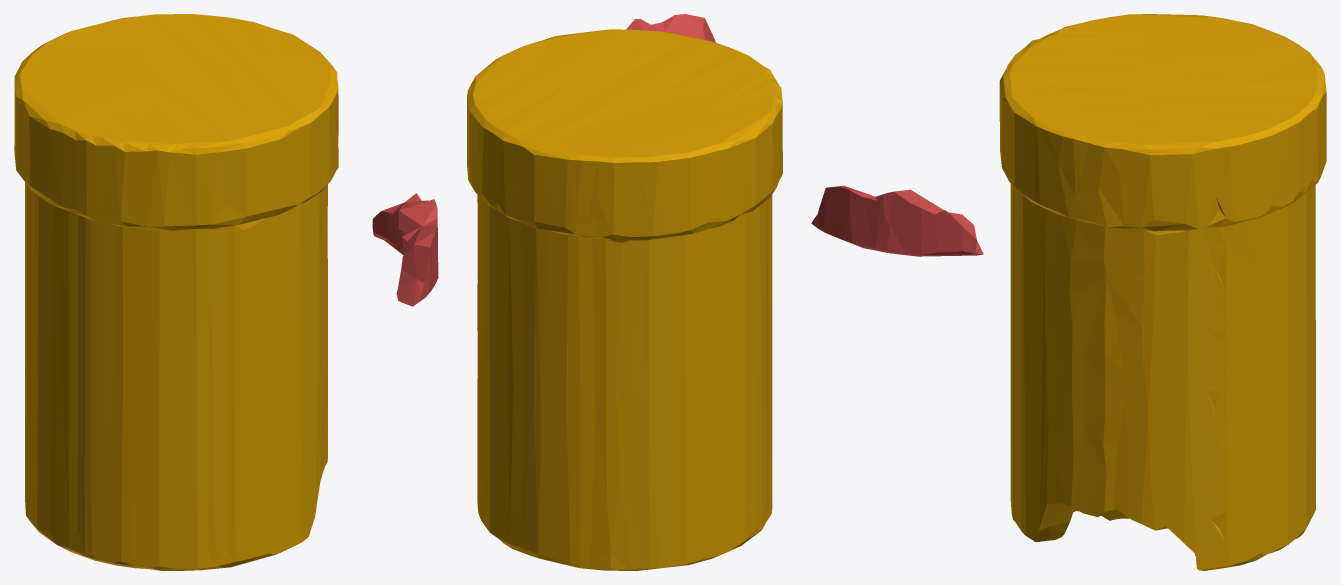
The model's file is fractured_56_2pcs_transformed.glb.
3 views of the same model, side by side, from view 1: azimuth 30°, elevation 25°; view 2: azimuth 150°, elevation 25°; view 3: azimuth 270°, elevation 25° (orthographic). The views are drawn at different scales.
Visible parts, largest first — view 1: piece_0.obj, piece_1.obj; view 2: piece_0.obj, piece_1.obj; view 3: piece_0.obj, piece_1.obj.
Part boxes in pixels (x1,y1,x2,y2): piece_0.obj: (14, 14, 338, 570); piece_1.obj: (372, 193, 438, 306); piece_0.obj: (467, 29, 782, 570); piece_1.obj: (626, 14, 715, 42); piece_0.obj: (999, 14, 1326, 570); piece_1.obj: (811, 185, 983, 256).
Bounding box in the file's own units: 0.6842 × 1 × 1.08.
